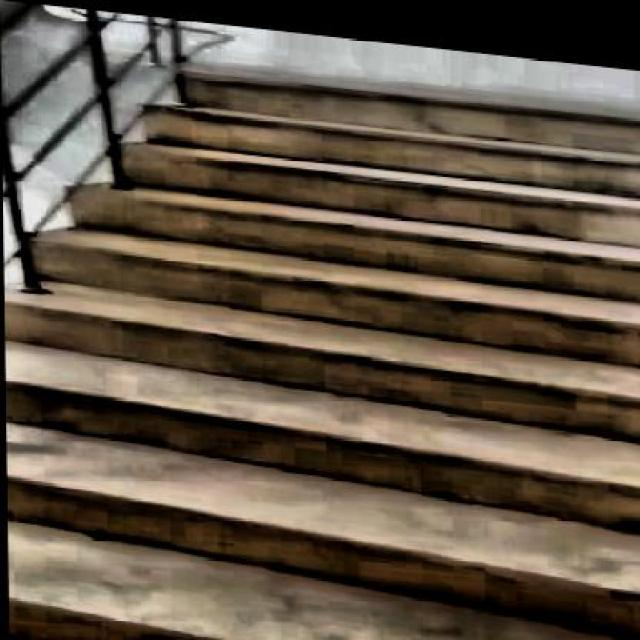stair: (0, 38, 638, 638)
